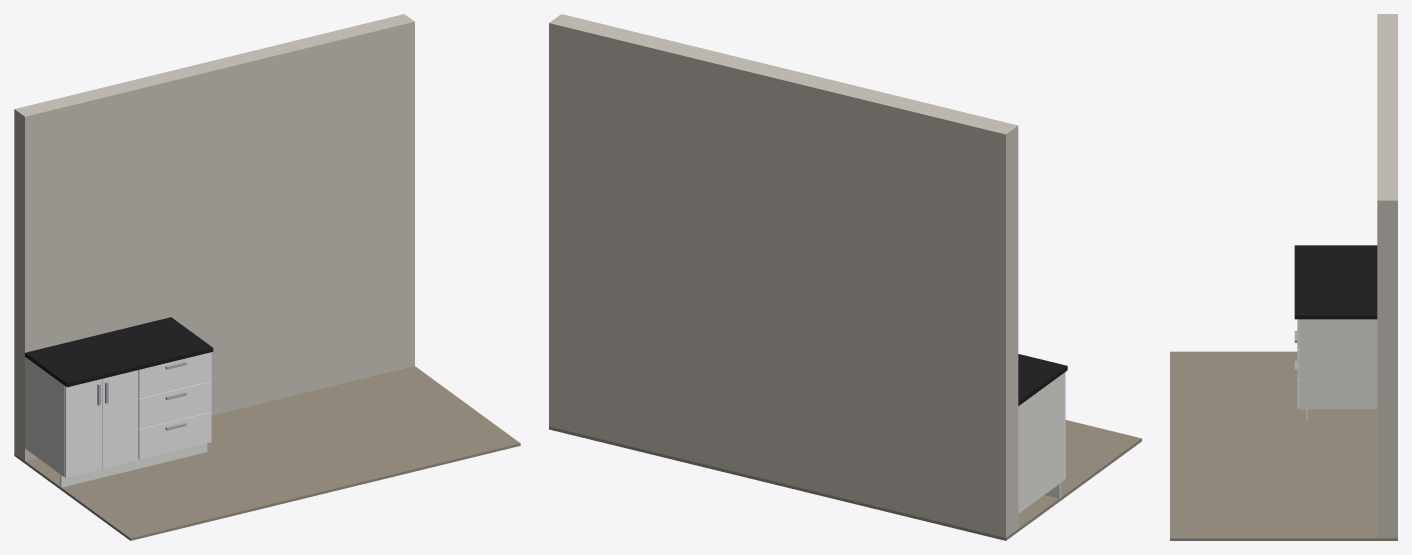
The model's file is POC_Cozinha_01.dae.
The picture shows the model from 3 angles, left to right: view 1: azimuth 30°, elevation 25°; view 2: azimuth 150°, elevation 25°; view 3: azimuth 270°, elevation 25°; orthographic projection. The views are drawn at different scales.
Visible parts, largest first — view 1: Parede_1, Piso, M01_base_cabinet_Tampo, M01_base_cabinet, M02_drawer_cabinet, M01_base_cabinet_Lateral_Esquerda, M01_base_cabinet_Rodape, M02_drawer_cabinet_Rodape; view 2: Parede_1, Piso, M01_base_cabinet_Lateral_Esquerda, M01_base_cabinet_Tampo; view 3: Piso, Parede_1, M02_drawer_cabinet_Lateral_Direita, M01_base_cabinet_Tampo, M02_drawer_cabinet.
Boxes of the visible parts, x1=… form: Parede_1: x1=14, y1=14, x2=414, y2=460; Piso: x1=14, y1=366, x2=520, y2=540; M01_base_cabinet_Tampo: x1=25, y1=317, x2=213, y2=387; M01_base_cabinet: x1=64, y1=370, x2=138, y2=477; M02_drawer_cabinet: x1=138, y1=352, x2=211, y2=459; M01_base_cabinet_Lateral_Esquerda: x1=25, y1=357, x2=64, y2=477; M01_base_cabinet_Rodape: x1=60, y1=461, x2=134, y2=487; M02_drawer_cabinet_Rodape: x1=134, y1=443, x2=207, y2=469; Parede_1: x1=549, y1=14, x2=1018, y2=537; Piso: x1=549, y1=420, x2=1141, y2=540; M01_base_cabinet_Lateral_Esquerda: x1=1018, y1=373, x2=1064, y2=513; M01_base_cabinet_Tampo: x1=1018, y1=354, x2=1067, y2=405; Piso: x1=1170, y1=351, x2=1397, y2=540; Parede_1: x1=1377, y1=14, x2=1397, y2=538; M02_drawer_cabinet_Lateral_Direita: x1=1300, y1=319, x2=1377, y2=409; M01_base_cabinet_Tampo: x1=1294, y1=245, x2=1377, y2=319; M02_drawer_cabinet: x1=1294, y1=319, x2=1299, y2=408.
Size of the model in its own units: 3200 by 1650 by 2720.
